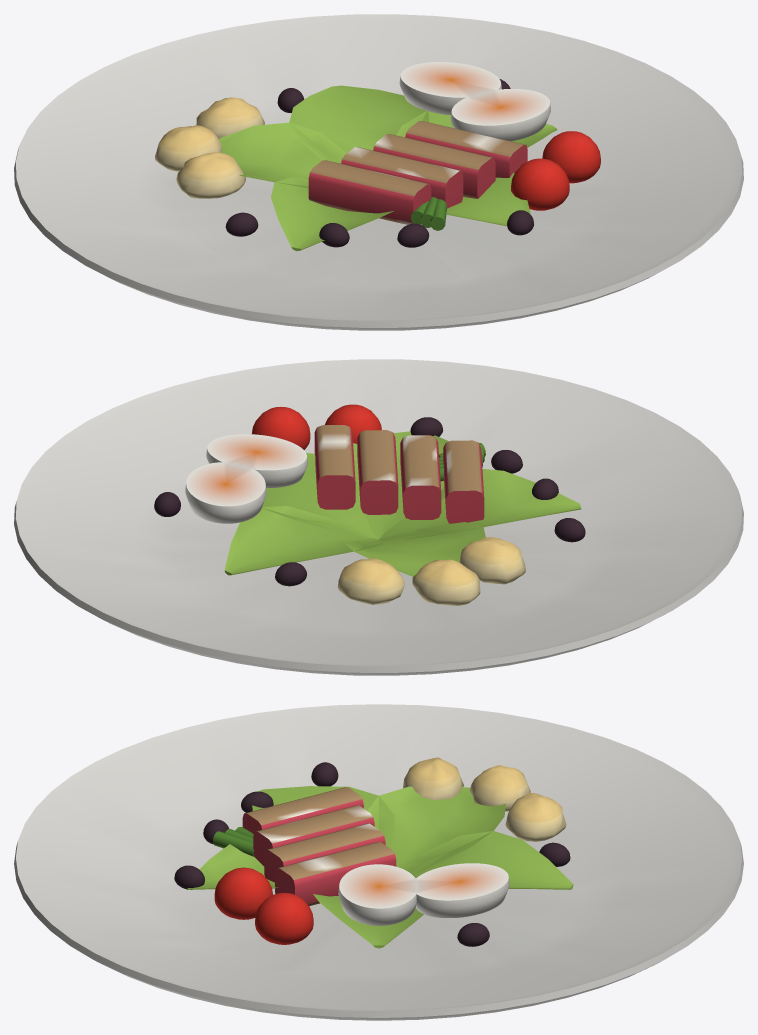
The model's file is dish-nicoise-lod0.glb.
3 views of the same model, one above another, from view 1: azimuth 30°, elevation 25°; view 2: azimuth 150°, elevation 25°; view 3: azimuth 270°, elevation 25° (orthographic).
Visible parts, largest first — view 1: nicoise.lod0__table porcelain, nicoise.lod0__food glaze, nicoise.lod0__food; view 2: nicoise.lod0__table porcelain, nicoise.lod0__food glaze, nicoise.lod0__food; view 3: nicoise.lod0__table porcelain, nicoise.lod0__food glaze, nicoise.lod0__food.
Boxes of the visible parts, x1,y1,x2,y2 form: nicoise.lod0__table porcelain: (14, 14, 743, 330); nicoise.lod0__food glaze: (225, 62, 600, 247); nicoise.lod0__food: (155, 85, 557, 251); nicoise.lod0__table porcelain: (14, 359, 743, 675); nicoise.lod0__food glaze: (154, 404, 585, 586); nicoise.lod0__food: (224, 431, 581, 605); nicoise.lod0__table porcelain: (14, 704, 743, 1020); nicoise.lod0__food glaze: (174, 762, 570, 946); nicoise.lod0__food: (186, 757, 573, 948).
Bounding box in the file's own units: 0.27 × 0.037 × 0.27.
